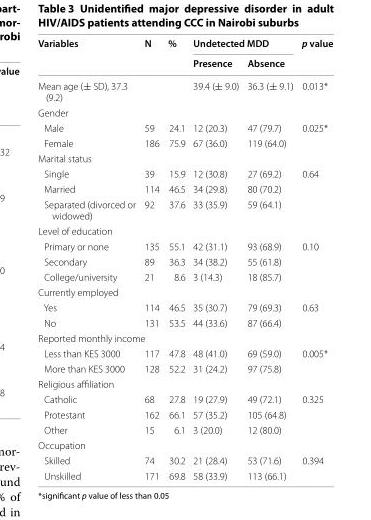table: (37, 36, 332, 481)
table column: (37, 36, 139, 481), (188, 36, 242, 481), (242, 36, 296, 481), (296, 36, 332, 481), (162, 36, 188, 481), (139, 36, 162, 481)
table column header: (37, 36, 332, 74)
table projected row header: (37, 375, 332, 391), (37, 104, 332, 119), (37, 150, 332, 165), (37, 223, 332, 238), (37, 284, 332, 299), (37, 330, 332, 345), (37, 437, 332, 452)
table row: (37, 74, 332, 104), (37, 196, 332, 223), (37, 52, 332, 74), (37, 36, 332, 52), (37, 119, 332, 135), (37, 165, 332, 181), (37, 268, 332, 284), (37, 314, 332, 330), (37, 375, 332, 391), (37, 421, 332, 437), (37, 104, 332, 119), (37, 135, 332, 150), (37, 150, 332, 165), (37, 181, 332, 196), (37, 223, 332, 238), (37, 238, 332, 253), (37, 253, 332, 268), (37, 284, 332, 299), (37, 299, 332, 314), (37, 330, 332, 345), (37, 345, 332, 360), (37, 360, 332, 375), (37, 391, 332, 406), (37, 406, 332, 421), (37, 437, 332, 452), (37, 452, 332, 467), (37, 467, 332, 481)
table spanning cell: (37, 36, 139, 74), (188, 36, 296, 52), (296, 36, 332, 74), (162, 36, 188, 74), (139, 36, 162, 74)
